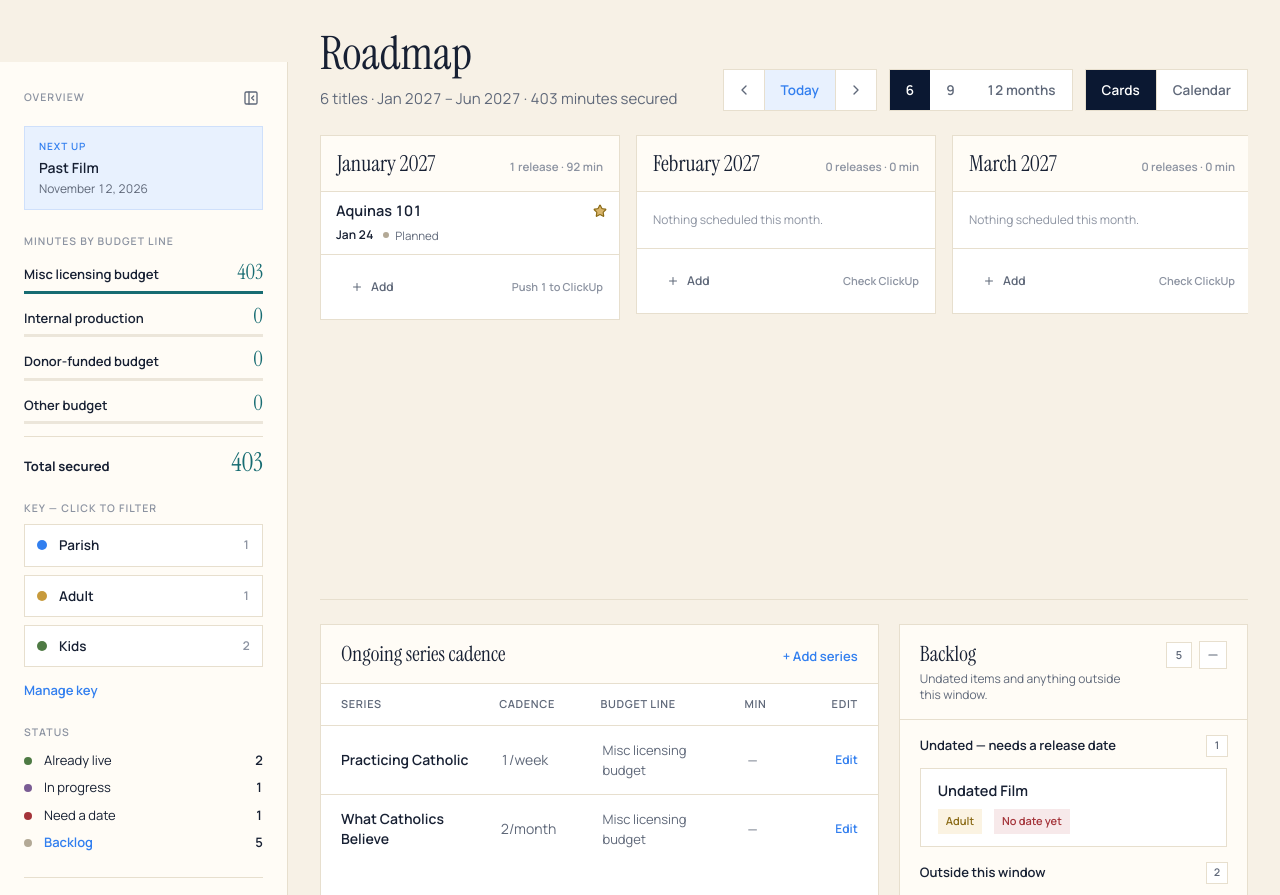
RoadmapDashboard › filters the roadmap when key chips are clicked
Click the button with aria-label "Filter Adult" at {"x": 144, "y": 596}, box 24,574 -> 263,617
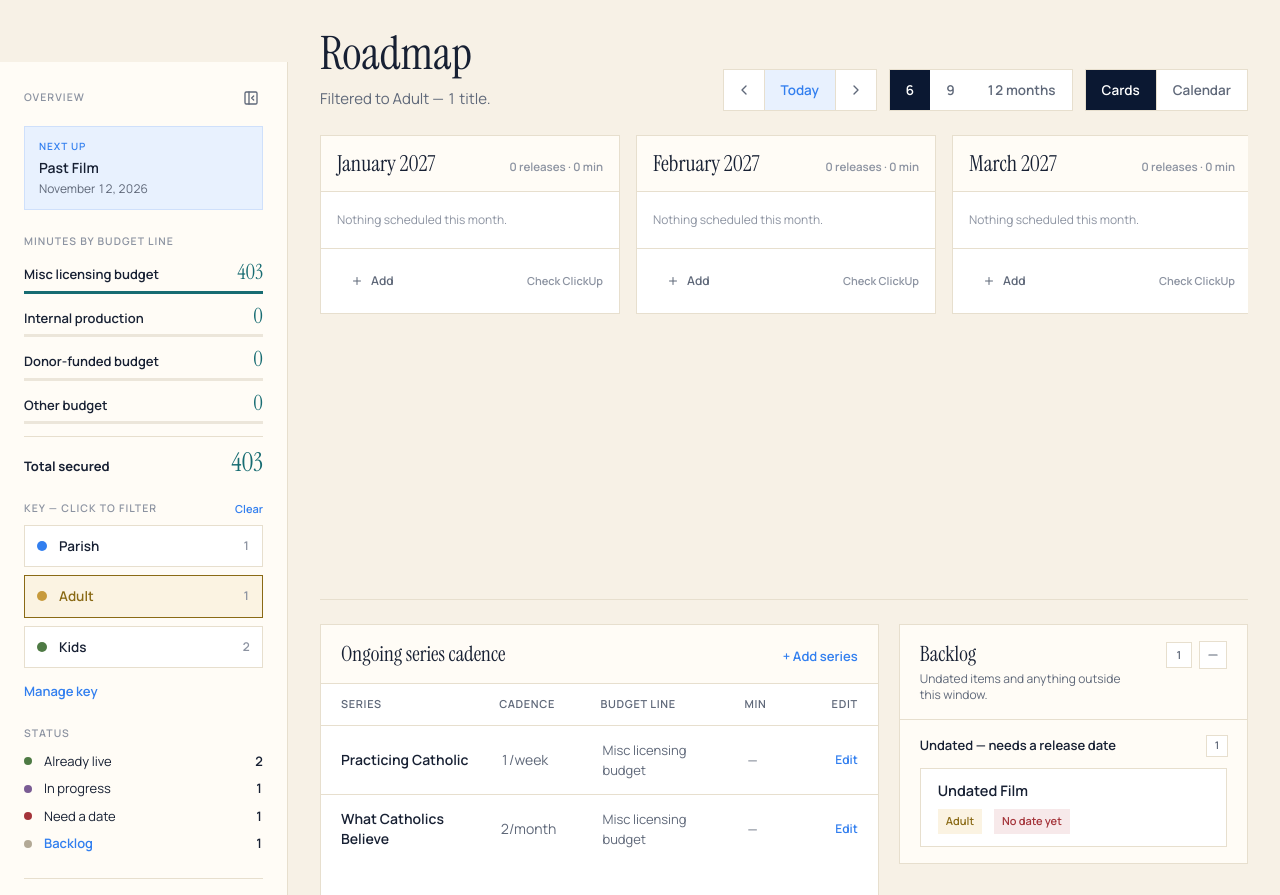
Expected: the text "Undated Film" is shown, 938,781 -> 1028,800
Expected: the button "Aquinas 101" is gone
Expected: the button with aria-label "Clear Adult filter" is shown
Click the button with aria-label "Clear Adult filter" at {"x": 144, "y": 596}, box 24,575 -> 263,618
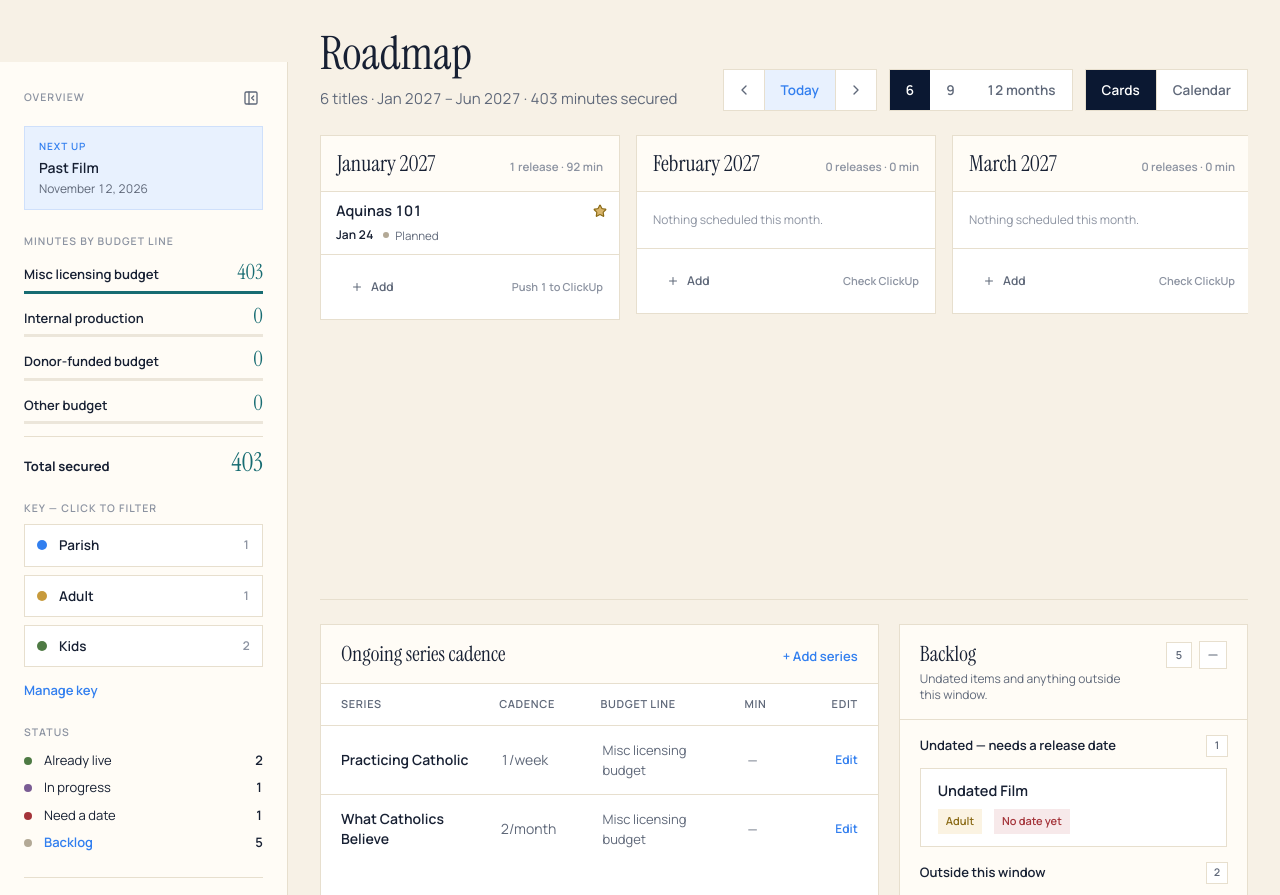
Expected: the text "Aquinas 101" is shown, 336,202 -> 422,220
